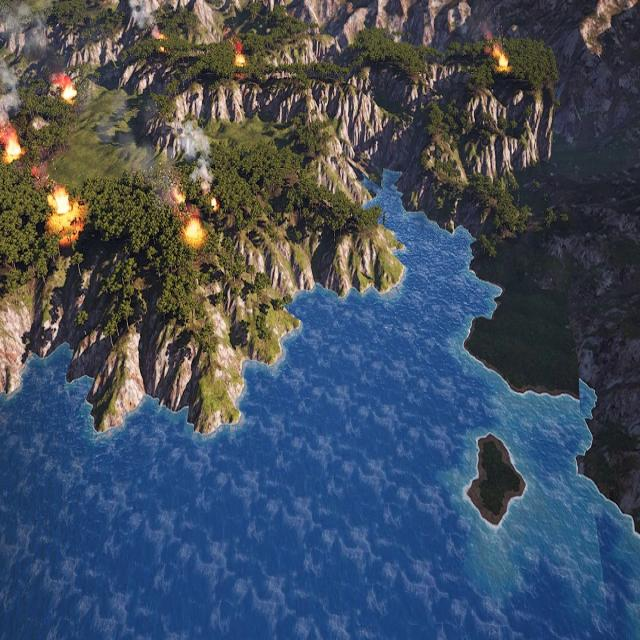fire: (50, 187, 79, 234), (184, 220, 203, 244), (4, 138, 23, 162), (60, 80, 77, 104), (169, 185, 186, 206), (232, 53, 248, 67), (496, 54, 510, 70), (210, 199, 218, 213), (157, 35, 168, 42)
smoke: (79, 92, 217, 197), (0, 0, 50, 138), (128, 0, 158, 30)
